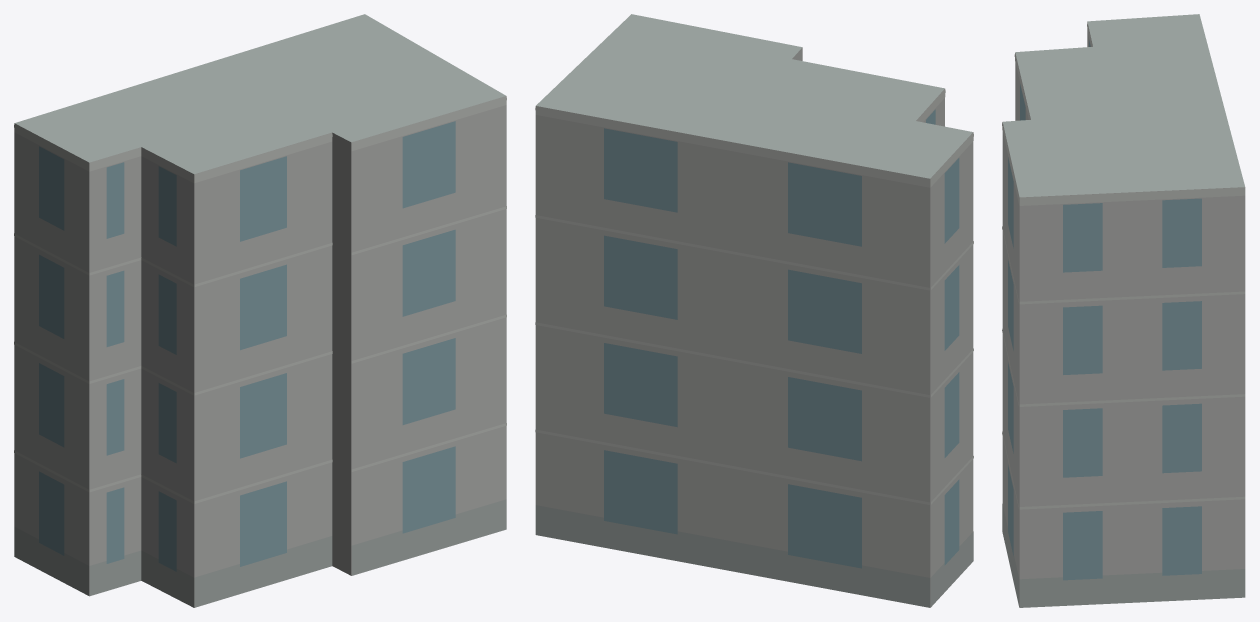
The model's file is survey-upis-32953397.glb.
3 views of the same model, side by side, from view 1: azimuth 30°, elevation 25°; view 2: azimuth 150°, elevation 25°; view 3: azimuth 270°, elevation 25° (orthographic). The views are drawn at different scales.
Visible parts, largest first — view 1: survey-upis-32953397.tmp; view 2: survey-upis-32953397.tmp; view 3: survey-upis-32953397.tmp.
Boxes of the visible parts, box(x1,y1,x2,y2) form: survey-upis-32953397.tmp: box(14, 14, 506, 607); survey-upis-32953397.tmp: box(535, 14, 973, 607); survey-upis-32953397.tmp: box(1002, 14, 1245, 607).
Bounding box in the file's own units: 11.19 × 11.65 × 6.27.
